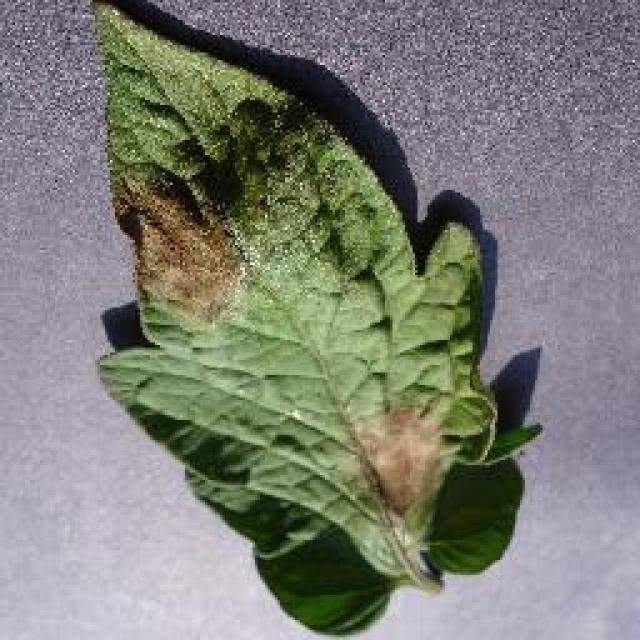Tomato___Late_blight: (98, 2, 545, 632)
